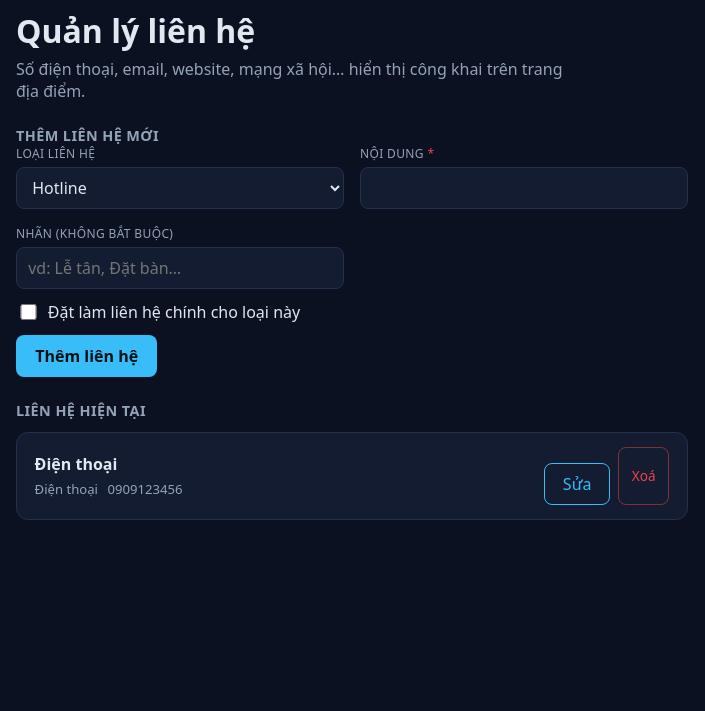
Test: ContactsView — sửa liên hệ › bấm "Huỷ" trong lúc sửa -> quay lại hiển thị bình thường, KHÔNG gọi updatePlaceContact
Expected: the text "0909123456" is shown, [108,480,182,498]
Click the button "Sửa": (577,484) [544,463,610,505]
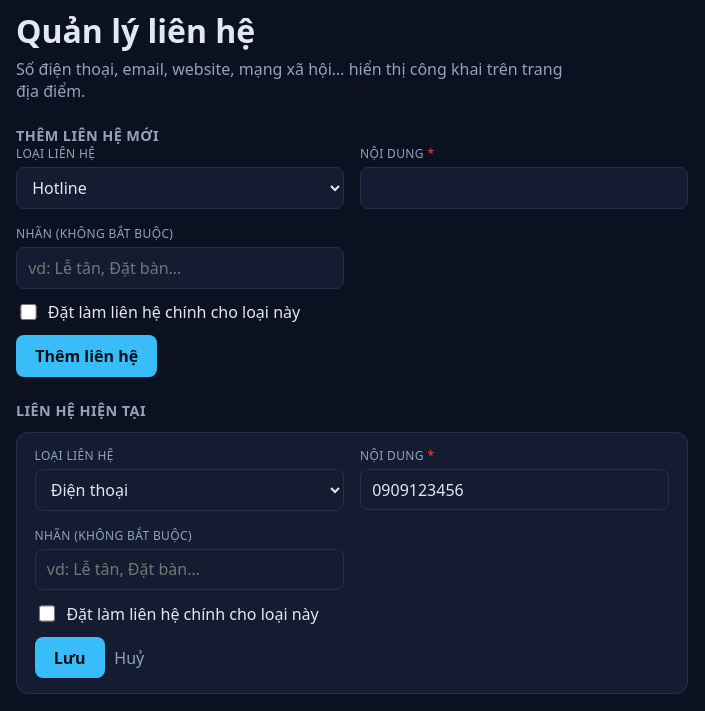
Expected: the button "Huỷ" is shown
Click the button "Huỷ": (129,658) [114,646,144,668]
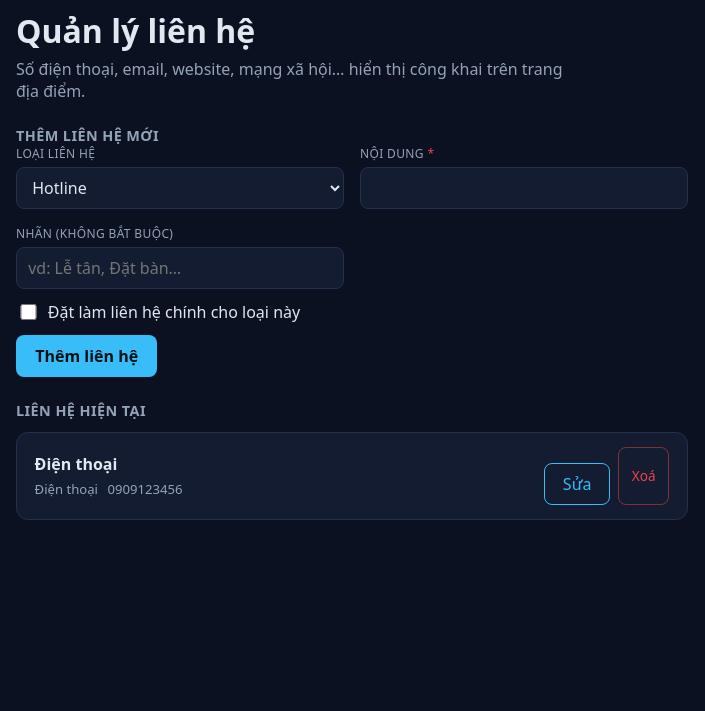
Expected: the button "Lưu" is gone
